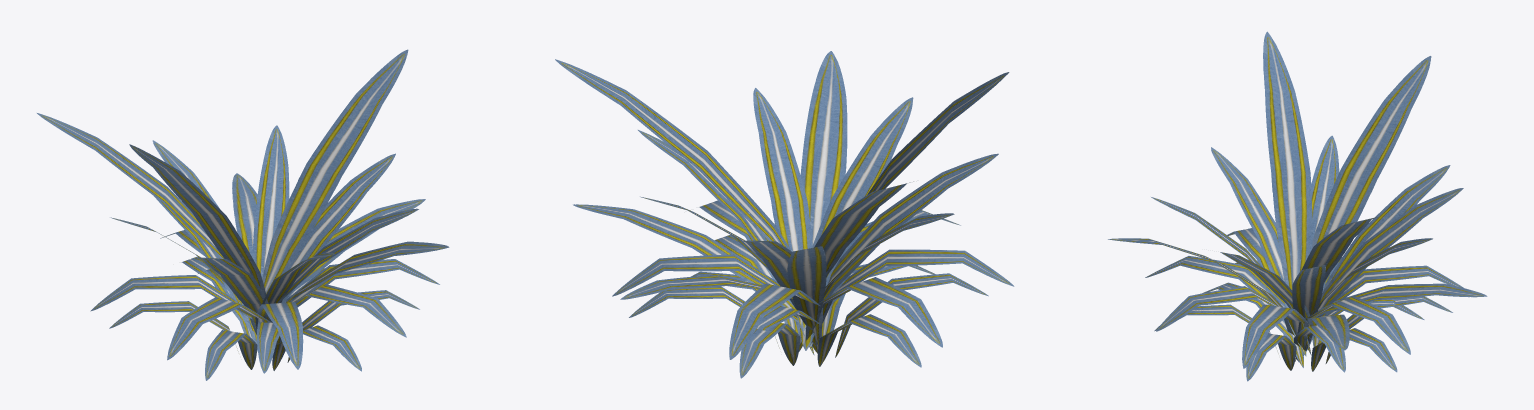
The model's file is plante_4_2.FBX.
The picture shows the model from 3 angles, left to right: view 1: azimuth 30°, elevation 25°; view 2: azimuth 150°, elevation 25°; view 3: azimuth 270°, elevation 25°; orthographic projection. The views are drawn at different scales.
Parts seen in each view (by area): view 1: Plane347; view 2: Plane347; view 3: Plane347.
Boxes of the visible parts, x1,y1,x2,y2 form: Plane347: [37, 49, 449, 380]; Plane347: [555, 51, 1014, 378]; Plane347: [1108, 31, 1487, 381].
Bounding box in the file's own units: 162 × 110 × 155.
1 material, 1 textured.
